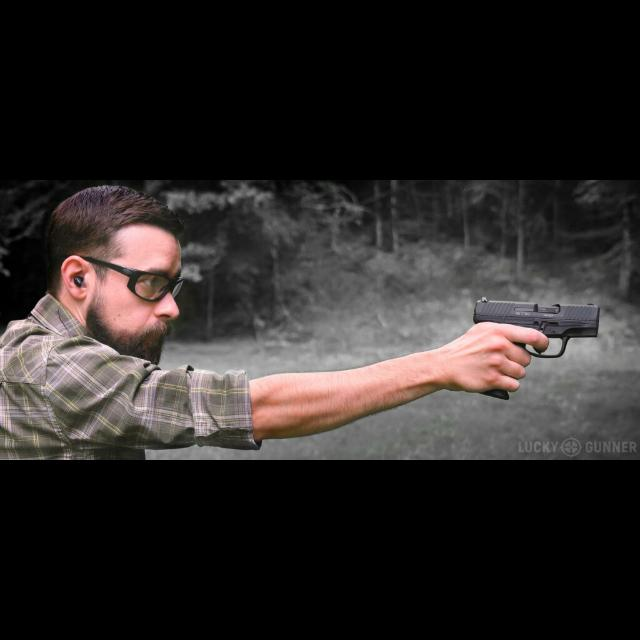handgun: (466, 294, 602, 404)
